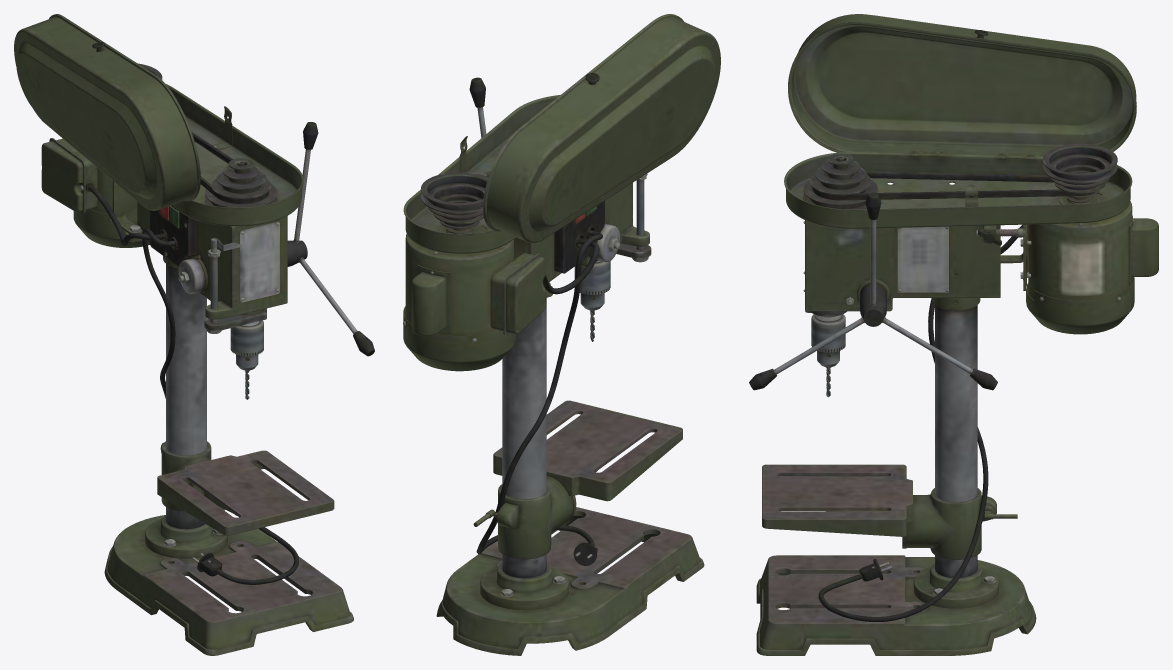
The model's file is drill_press_01.gltf.
3 views of the same model, side by side, from view 1: azimuth 30°, elevation 25°; view 2: azimuth 150°, elevation 25°; view 3: azimuth 270°, elevation 25° (orthographic). The views are drawn at different scales.
Visible parts, largest first — view 1: drill_press_01, drill_press_01_lid, drill_press_01_plate, drill_press_01_gear_b, drill_press_01_plug, drill_press_01_handle, drill_press_01_limiter, drill_press_01_bit, drill_press_01_belt; view 2: drill_press_01, drill_press_01_lid, drill_press_01_plate, drill_press_01_gear_a, drill_press_01_plug, drill_press_01_bit, drill_press_01_limiter, drill_press_01_handle; view 3: drill_press_01, drill_press_01_lid, drill_press_01_plate, drill_press_01_handle, drill_press_01_gear_a, drill_press_01_belt, drill_press_01_plug, drill_press_01_gear_b, drill_press_01_bit.
Boxes of the visible parts, x1,y1,x2,y2 form: drill_press_01: [41, 84, 353, 655]; drill_press_01_lid: [14, 14, 200, 210]; drill_press_01_plate: [157, 441, 334, 535]; drill_press_01_gear_b: [205, 158, 277, 207]; drill_press_01_plug: [142, 229, 298, 584]; drill_press_01_handle: [287, 122, 374, 356]; drill_press_01_limiter: [204, 238, 266, 333]; drill_press_01_bit: [230, 320, 263, 399]; drill_press_01_belt: [191, 132, 268, 203]; drill_press_01: [403, 95, 704, 655]; drill_press_01_lid: [483, 14, 720, 243]; drill_press_01_plate: [493, 400, 682, 559]; drill_press_01_gear_a: [421, 172, 488, 233]; drill_press_01_plug: [476, 230, 602, 565]; drill_press_01_bit: [574, 260, 610, 341]; drill_press_01_limiter: [616, 173, 651, 262]; drill_press_01_handle: [469, 77, 489, 174]; drill_press_01: [756, 152, 1158, 655]; drill_press_01_lid: [788, 14, 1136, 160]; drill_press_01_plate: [762, 464, 996, 559]; drill_press_01_handle: [749, 192, 997, 390]; drill_press_01_gear_a: [1043, 143, 1117, 203]; drill_press_01_belt: [812, 171, 1095, 200]; drill_press_01_plug: [818, 298, 988, 621]; drill_press_01_gear_b: [803, 153, 877, 209]; drill_press_01_bit: [811, 314, 845, 397].
Bounding box in the file's own units: 0.3543 × 0.9011 × 0.5988.
1 material, 1 textured.
